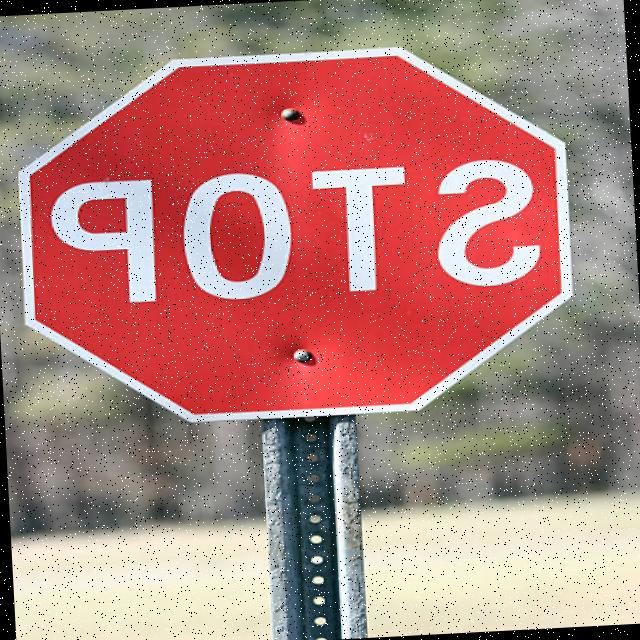stop: (6, 31, 598, 443)
